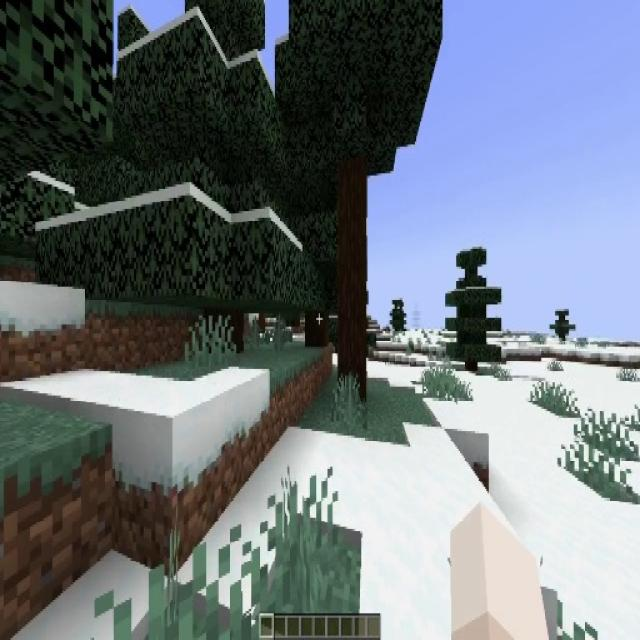spruce: (273, 0, 443, 402), (116, 0, 292, 361), (446, 240, 503, 376)
spruce_log: (338, 139, 366, 399), (206, 308, 244, 354), (305, 314, 328, 346), (465, 360, 478, 372)
